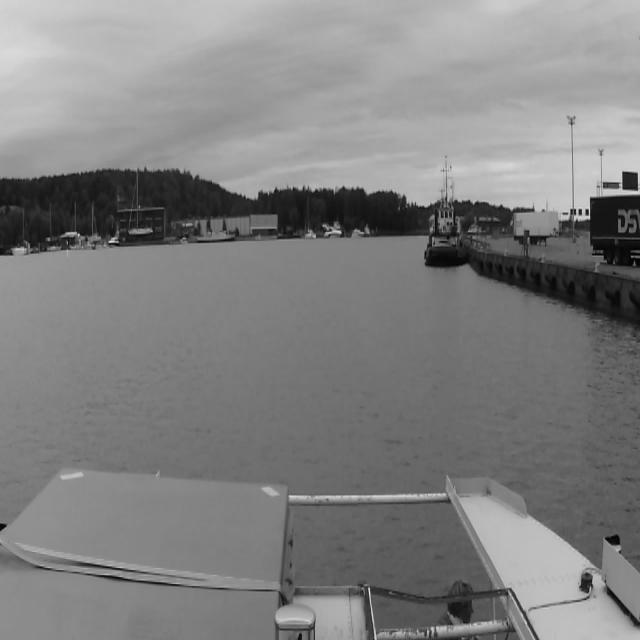ship: (424, 156, 464, 268), (127, 170, 153, 236), (47, 196, 62, 252), (197, 229, 236, 243), (88, 204, 102, 242), (304, 197, 316, 239), (323, 223, 342, 239), (351, 228, 365, 238), (180, 238, 188, 245)
